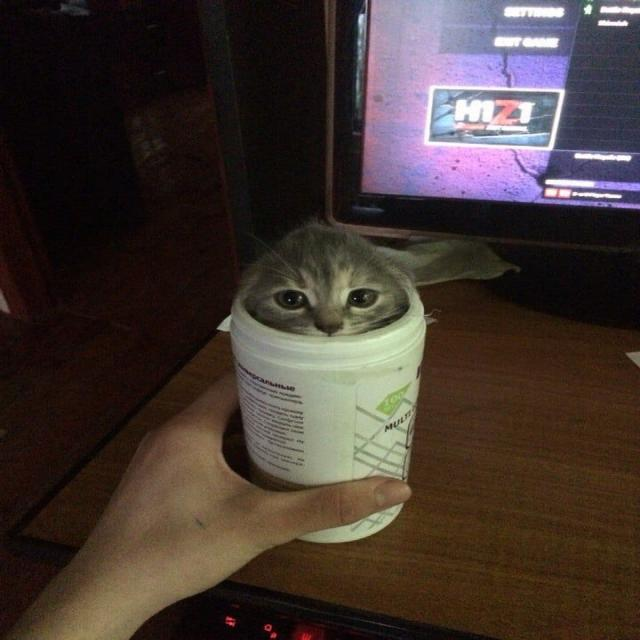cat: (228, 218, 420, 340)
